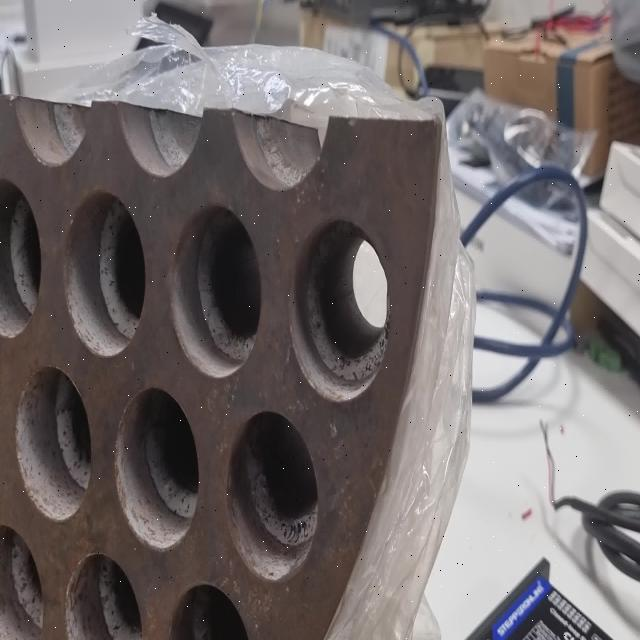Hole: (291, 216, 390, 404), (168, 203, 262, 378), (227, 411, 318, 582), (114, 386, 199, 552), (64, 190, 146, 358), (15, 364, 91, 522), (65, 550, 144, 640), (1, 178, 42, 339), (0, 523, 44, 639), (168, 581, 248, 639)
